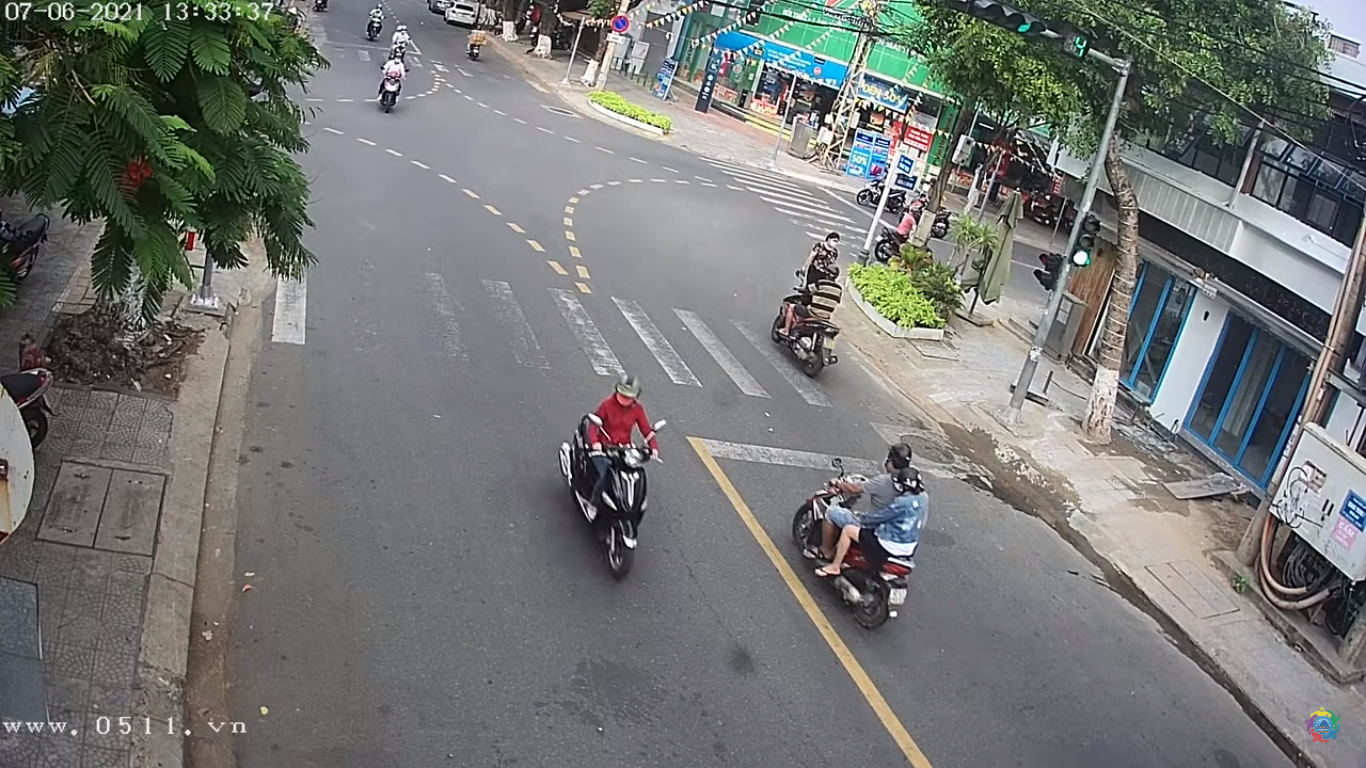motorbike: (565, 399, 664, 572)
